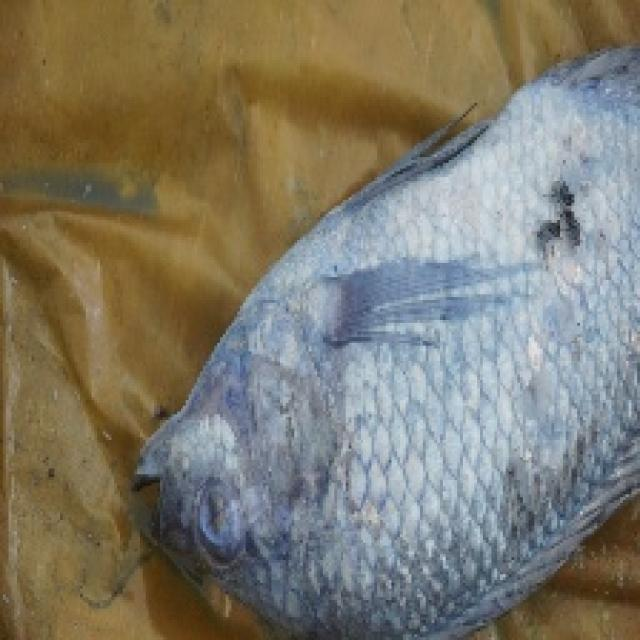Non-Fresh: (182, 473, 280, 580)
